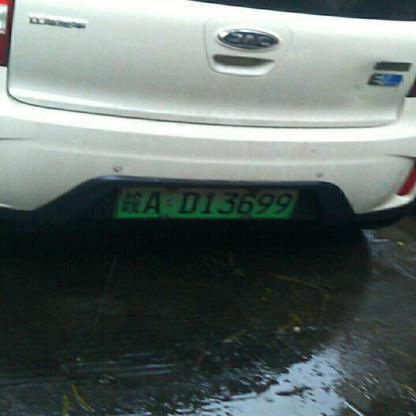lp: (117, 186, 297, 219)
